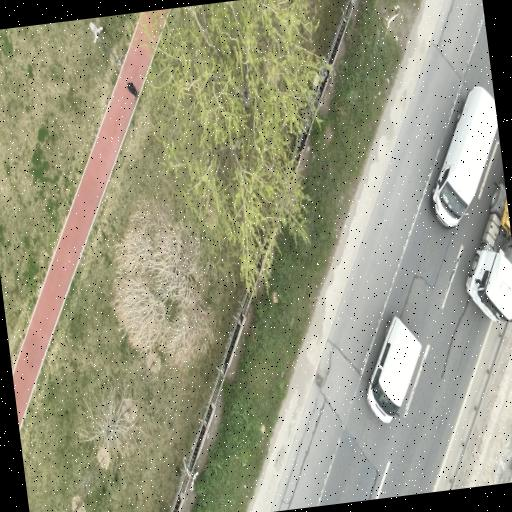car: (432, 86, 497, 227), (366, 316, 420, 422)
person: (126, 81, 137, 97)
truck: (466, 184, 511, 321)
